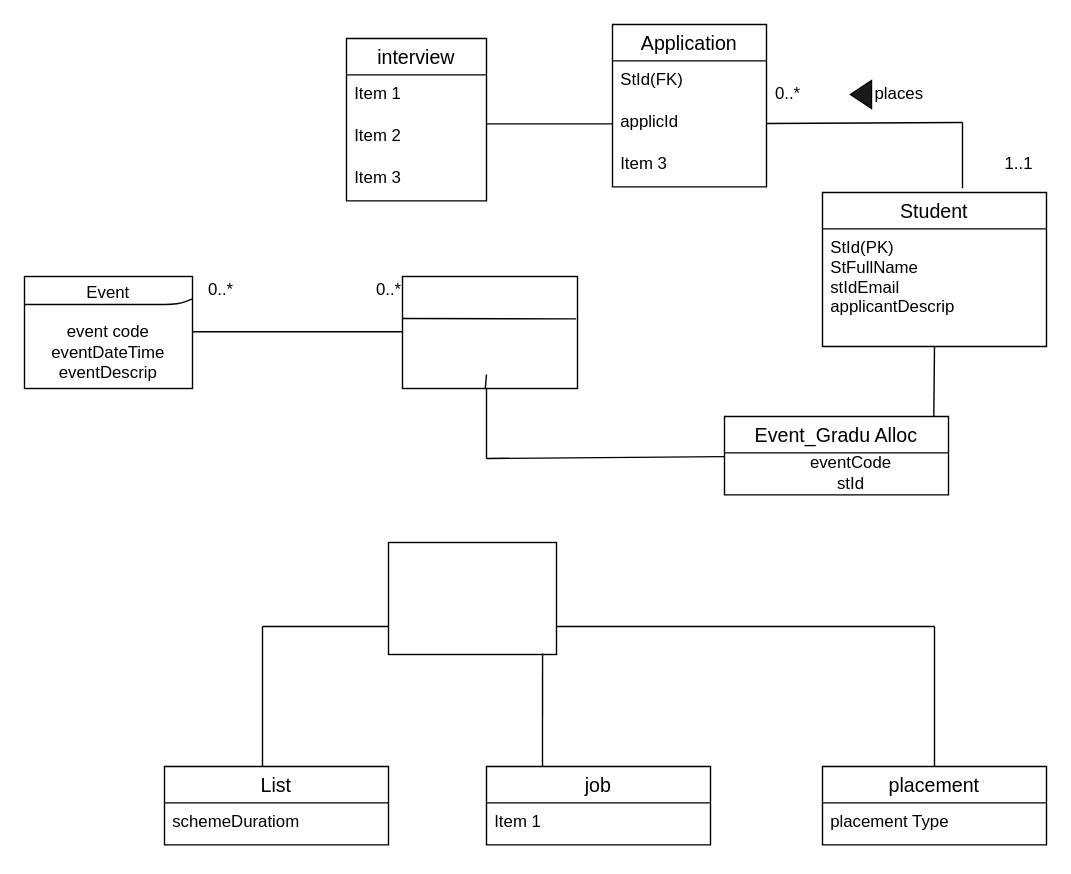
This 1071x874 diagram has some shape labels left out. Here are the shapes that lost their labels. From the top down, the centre of each, then its label:
At pixel 489 331: "Event Type preDuration job_fair presentation".
At pixel 471 597: "Employment offer offerName offerDiscrip offerDeadline offerStarDate".
